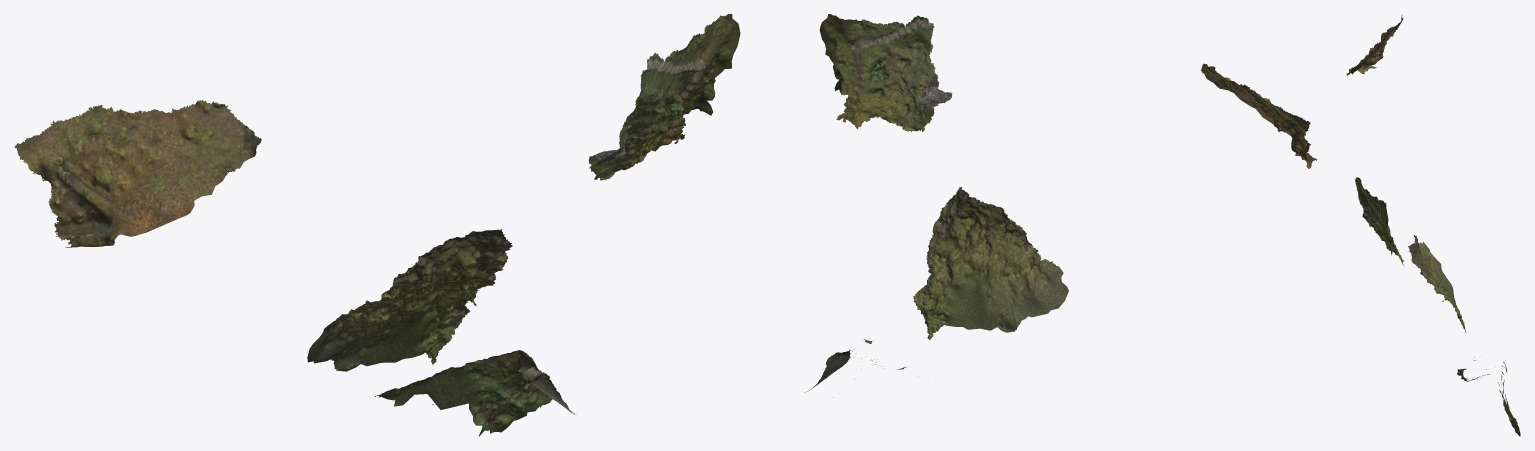
3 renders of one model, left to right at view 1: azimuth 30°, elevation 25°; view 2: azimuth 150°, elevation 25°; view 3: azimuth 270°, elevation 25°, orthographic. The views are drawn at different scales.
Size of the model in its own units: 59.38 by 42.71 by 24.25.
Materials: 1 (1 with a texture image).
